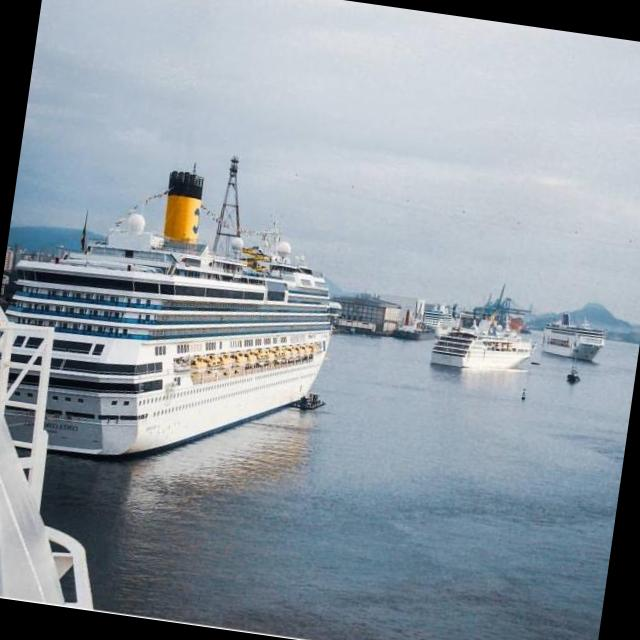Cruise: (7, 159, 336, 457), (431, 330, 532, 371), (543, 315, 605, 361)
